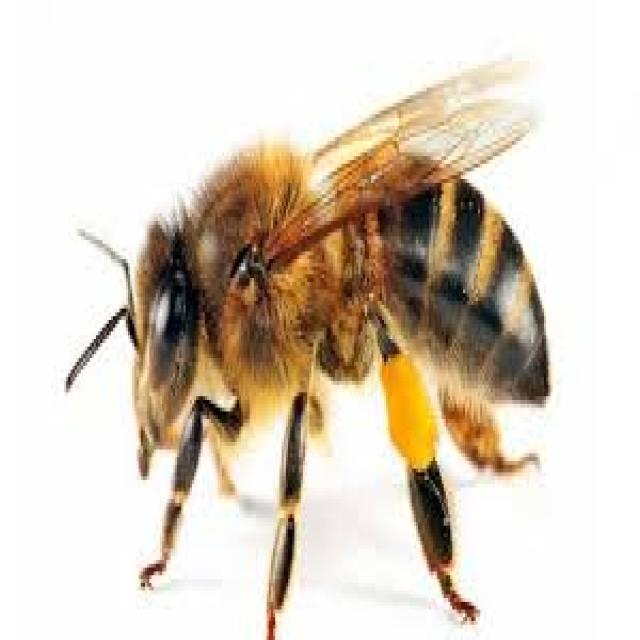Bees: (65, 20, 550, 640)
